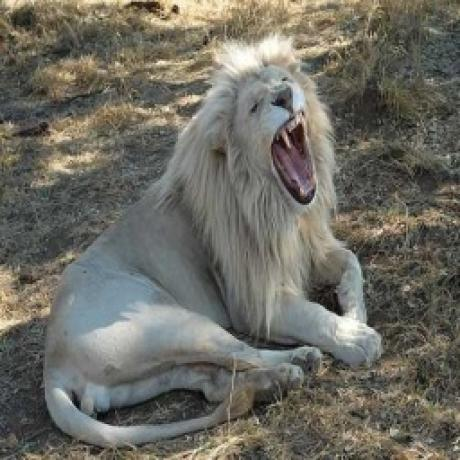Lion: (43, 40, 388, 451)
